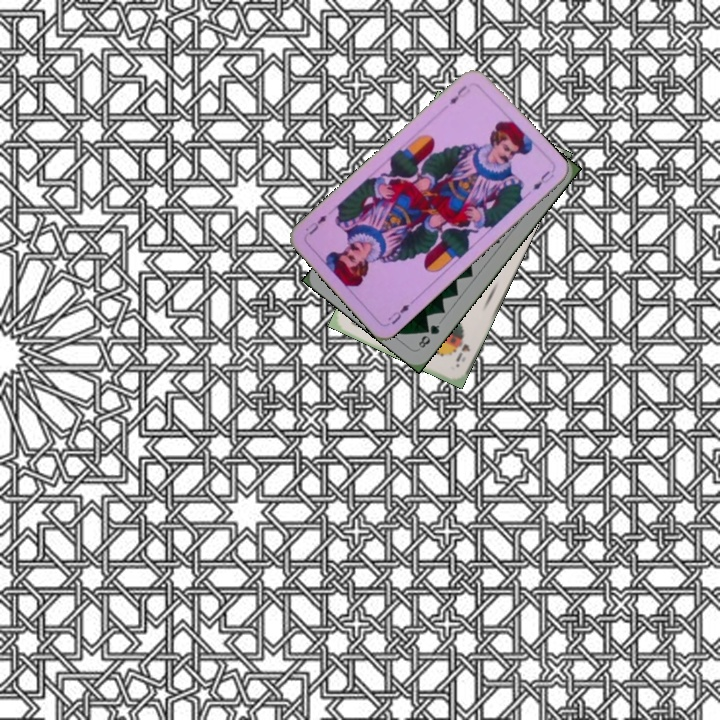EU: (384, 300, 412, 327), (445, 81, 473, 107)
G8: (414, 321, 443, 351)
SO: (452, 329, 472, 365)
